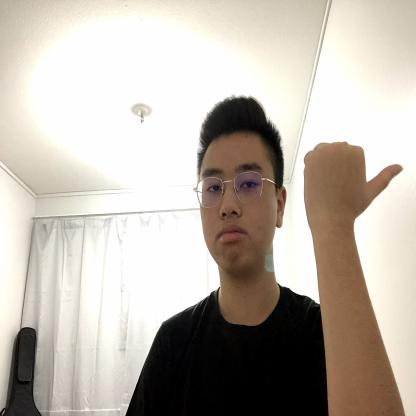left: (302, 138, 406, 233)
